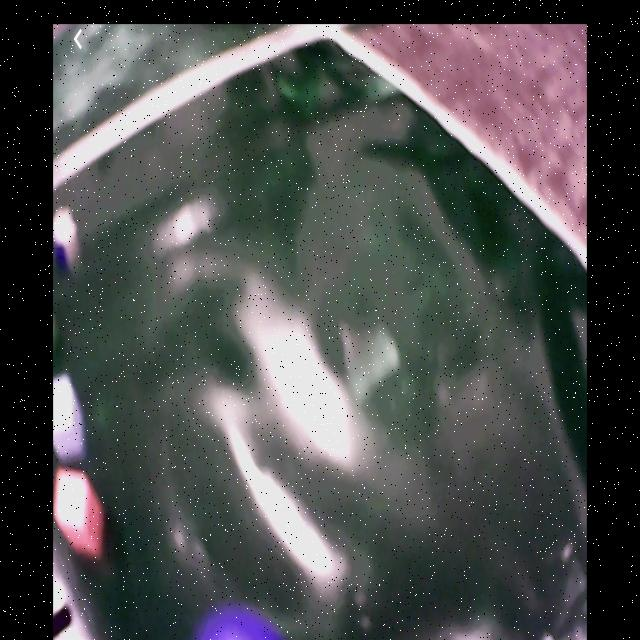ball: (197, 596, 285, 640)
